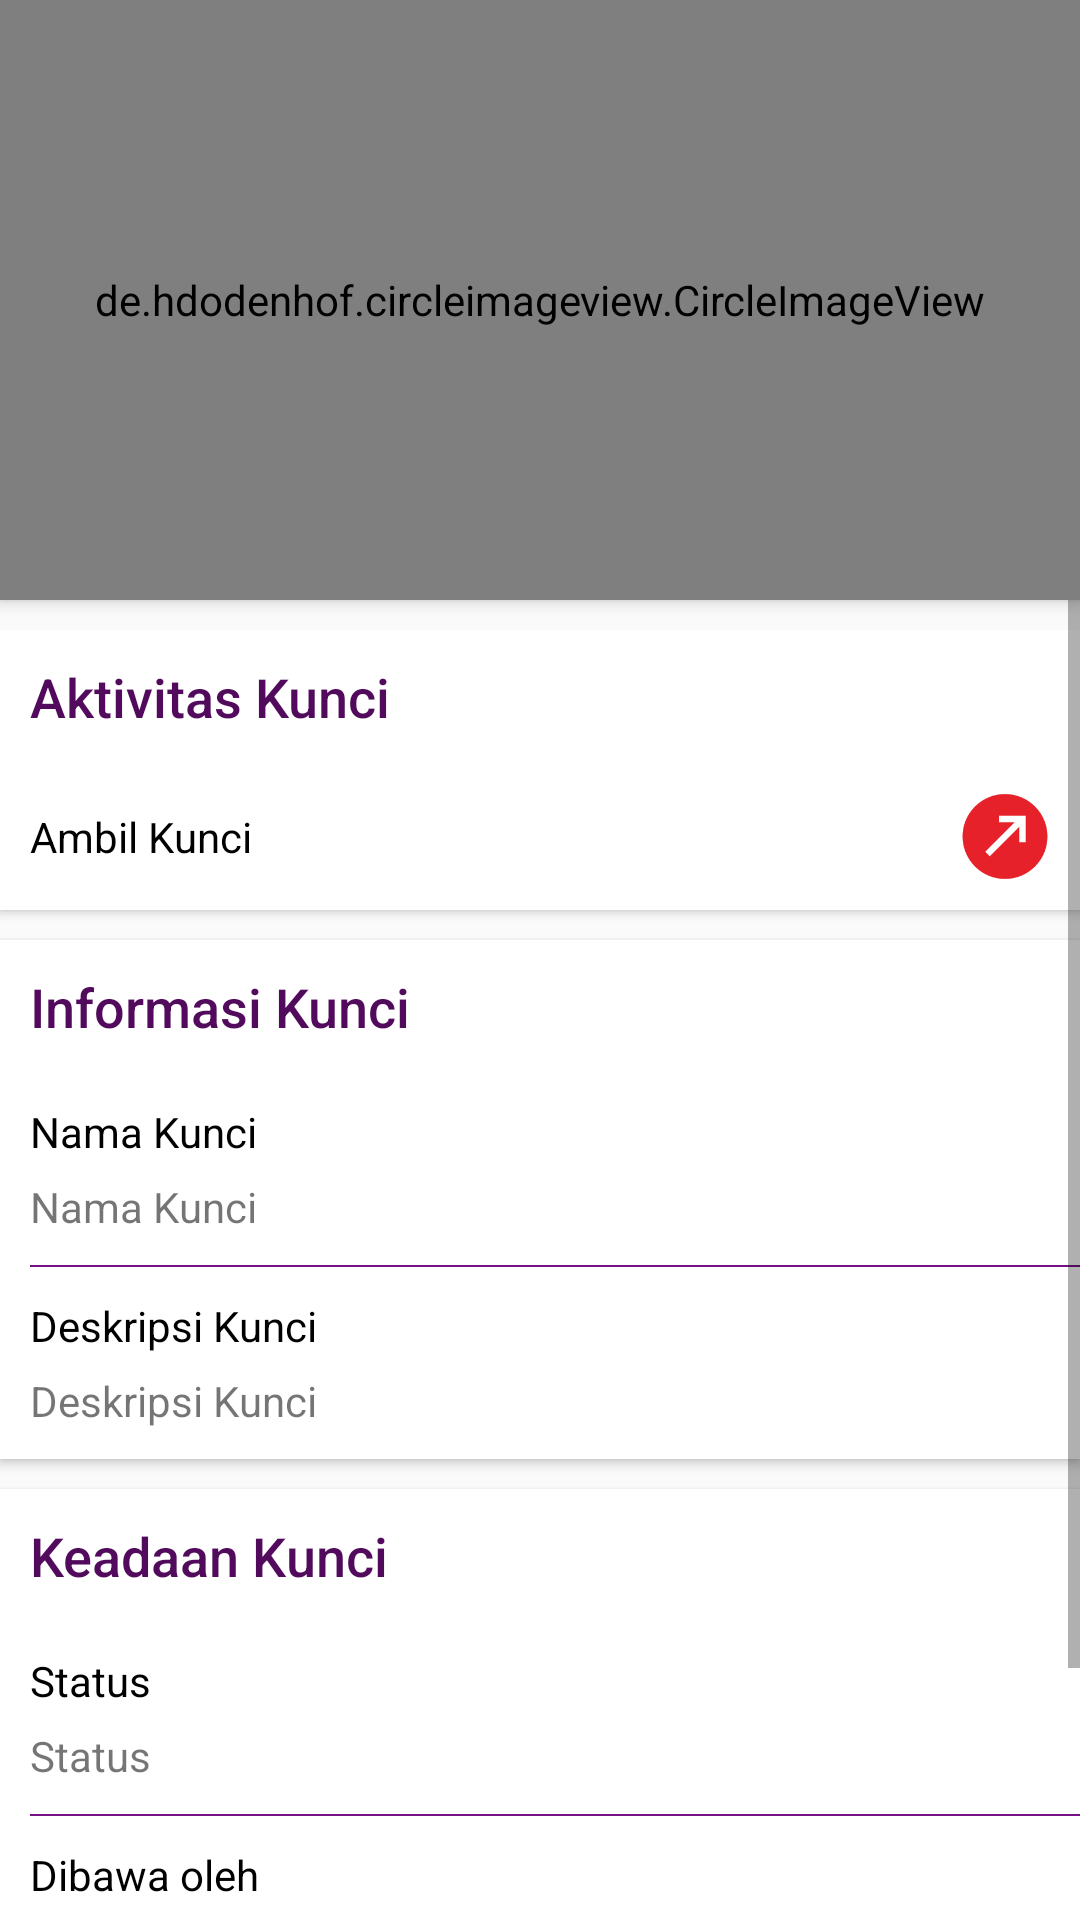

Where icons sit on this 1080×1920 app screen, as (x1, y1, x2, y2):
keluar round: (962, 794, 1048, 879)
